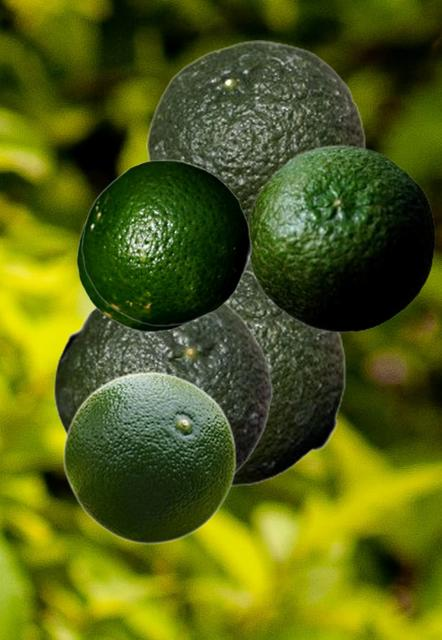calamansi: (146, 40, 365, 218), (53, 301, 272, 477), (246, 144, 434, 332), (62, 371, 236, 543), (81, 159, 251, 325), (227, 265, 345, 485), (76, 218, 201, 331)
